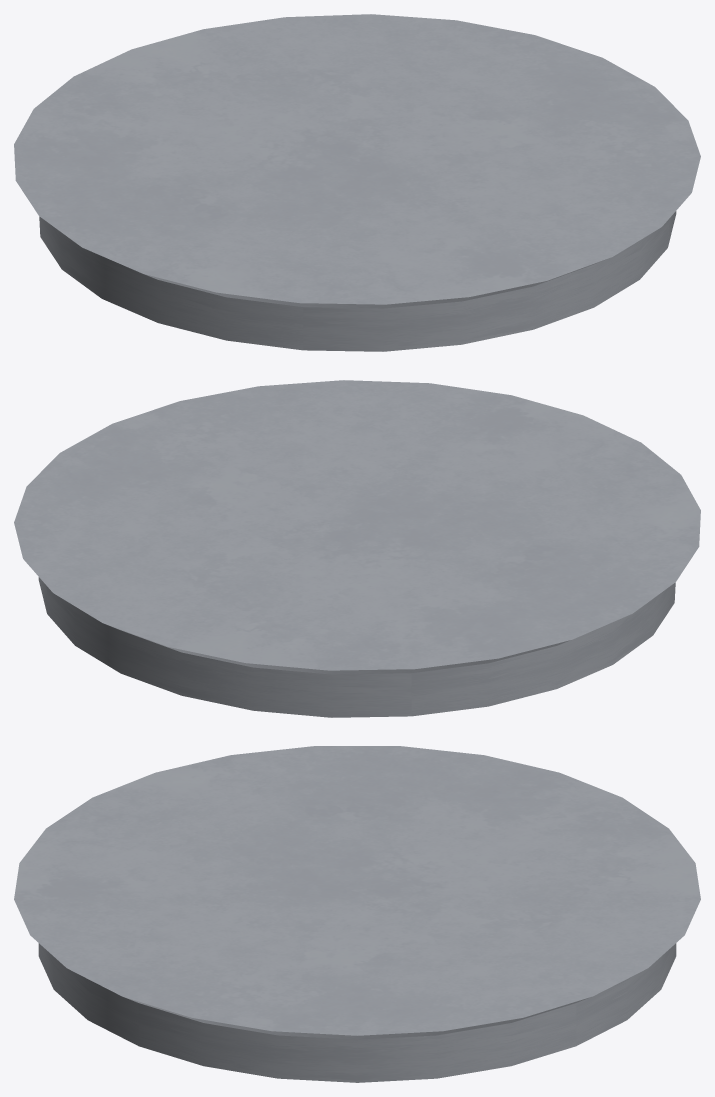
File: Ceiling Lamp 9.FBX
The picture shows the model from 3 angles, top to bottom: view 1: azimuth 30°, elevation 25°; view 2: azimuth 150°, elevation 25°; view 3: azimuth 270°, elevation 25°; orthographic projection.
Parts seen in each view (by area): view 1: ceiling lamp 9; view 2: ceiling lamp 9; view 3: ceiling lamp 9.
Part boxes in pixels (<box>): ceiling lamp 9: <box>14,14,700,351</box>; ceiling lamp 9: <box>14,380,700,717</box>; ceiling lamp 9: <box>14,746,700,1082</box>.
Size of the model in its own units: 10.68 by 0.9889 by 10.7.
2 materials, 1 textured.
